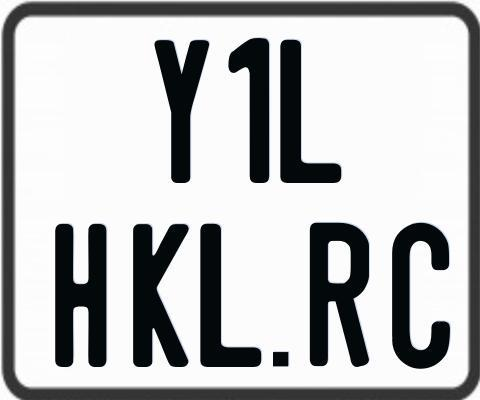1: (228, 36, 273, 181)
C: (389, 220, 450, 371)
H: (52, 222, 107, 370)
K: (130, 224, 190, 373)
L: (280, 38, 343, 187), (199, 222, 260, 368)
R: (309, 222, 370, 370)
Y: (153, 37, 209, 180)
